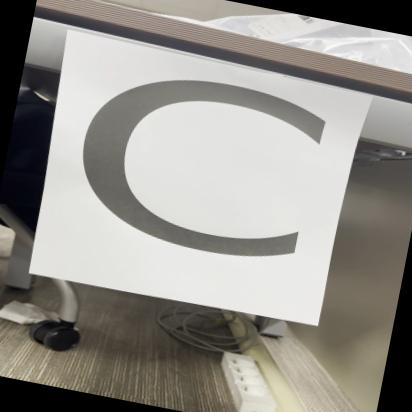seat: (24, 31, 357, 325)
